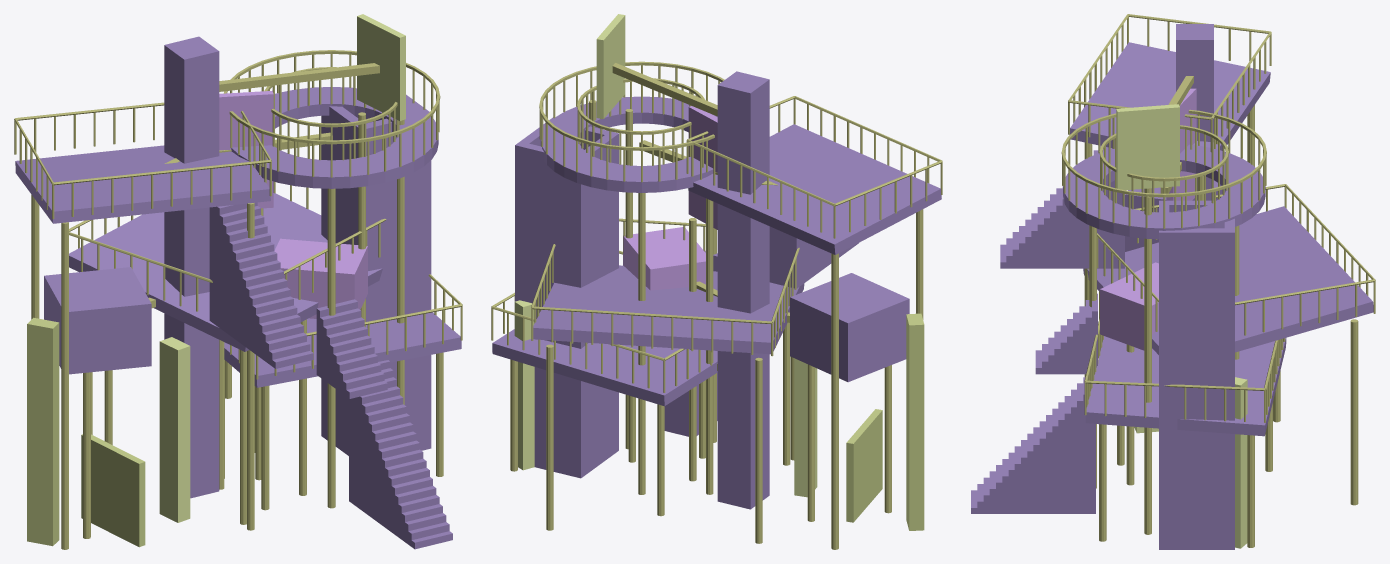
Rendered from folie_tag_110.glb.
3 renders of one model, left to right at view 1: azimuth 30°, elevation 25°; view 2: azimuth 150°, elevation 25°; view 3: azimuth 270°, elevation 25°, orthographic. The views are drawn at different scales.
Visible parts, largest first — view 1: folie_tag_110_line, folie_tag_110_stairs, folie_tag_110_core, folie_tag_110_04_tower, folie_tag_110_01_plate, folie_tag_110_05_block, folie_tag_110_00_plate, folie_tag_110_03_ring, folie_tag_110_06_fin, folie_tag_110_10_fin, folie_tag_110_11_panel, folie_tag_110_02_plate (+3 smaller); view 2: folie_tag_110_line, folie_tag_110_04_tower, folie_tag_110_core, folie_tag_110_01_plate, folie_tag_110_00_plate, folie_tag_110_05_block, folie_tag_110_02_plate, folie_tag_110_03_ring, folie_tag_110_06_fin, folie_tag_110_stairs, folie_tag_110_09_block, folie_tag_110_11_panel (+4 smaller); view 3: folie_tag_110_line, folie_tag_110_04_tower, folie_tag_110_stairs, folie_tag_110_00_plate, folie_tag_110_02_plate, folie_tag_110_03_ring, folie_tag_110_01_plate, folie_tag_110_12_panel, folie_tag_110_09_block, folie_tag_110_core, folie_tag_110_07_fin, folie_tag_110_08_panel (+1 smaller).
Part boxes in pixels (x1,y1,x2,y2): folie_tag_110_line: (14, 50, 462, 549); folie_tag_110_stairs: (209, 202, 452, 549); folie_tag_110_core: (164, 36, 219, 498); folie_tag_110_04_tower: (321, 94, 431, 455); folie_tag_110_01_plate: (15, 145, 270, 223); folie_tag_110_05_block: (44, 267, 151, 374); folie_tag_110_00_plate: (69, 193, 382, 351); folie_tag_110_03_ring: (231, 87, 438, 188); folie_tag_110_06_fin: (27, 317, 59, 546); folie_tag_110_10_fin: (159, 337, 190, 522); folie_tag_110_11_panel: (81, 434, 145, 547); folie_tag_110_02_plate: (224, 309, 461, 387); folie_tag_110_line: (491, 61, 942, 549); folie_tag_110_04_tower: (515, 117, 618, 478); folie_tag_110_core: (717, 71, 769, 509); folie_tag_110_01_plate: (688, 124, 941, 254); folie_tag_110_00_plate: (533, 265, 804, 354); folie_tag_110_05_block: (790, 273, 909, 382); folie_tag_110_02_plate: (492, 329, 717, 406); folie_tag_110_03_ring: (540, 96, 717, 192); folie_tag_110_06_fin: (906, 313, 924, 530); folie_tag_110_stairs: (664, 226, 858, 436); folie_tag_110_09_block: (623, 227, 705, 290); folie_tag_110_11_panel: (846, 409, 882, 522); folie_tag_110_line: (1061, 14, 1375, 547); folie_tag_110_04_tower: (1159, 200, 1234, 549); folie_tag_110_stairs: (971, 145, 1124, 513); folie_tag_110_00_plate: (1083, 206, 1373, 354); folie_tag_110_02_plate: (1085, 336, 1286, 436); folie_tag_110_03_ring: (1063, 144, 1265, 239); folie_tag_110_01_plate: (1069, 42, 1270, 150); folie_tag_110_12_panel: (1116, 104, 1179, 190); folie_tag_110_09_block: (1100, 262, 1158, 350); folie_tag_110_core: (1176, 24, 1213, 200); folie_tag_110_07_fin: (1235, 377, 1247, 548); folie_tag_110_08_panel: (1166, 88, 1196, 200).
Bounding box in the file's own units: 12.85 × 13.26 × 11.68.
